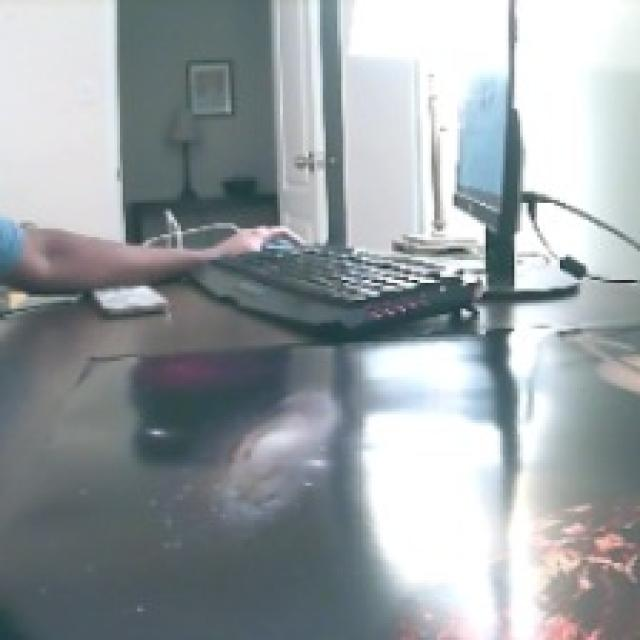Galaxy: (190, 389, 337, 541)
Saturn: (574, 331, 640, 397)
Sun: (386, 493, 640, 640)
